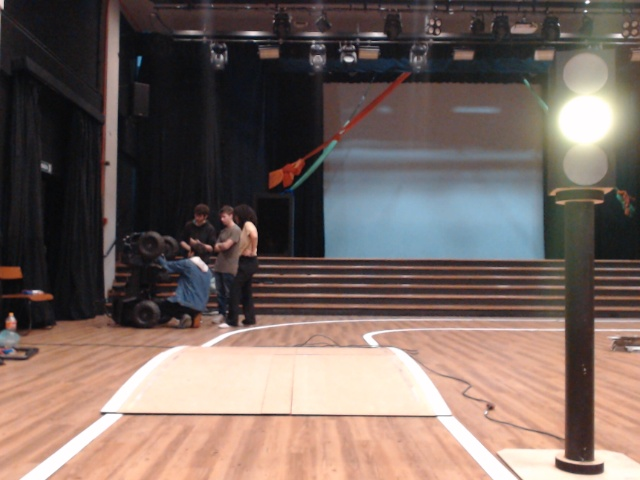SEMAFORO: (542, 38, 623, 209)
